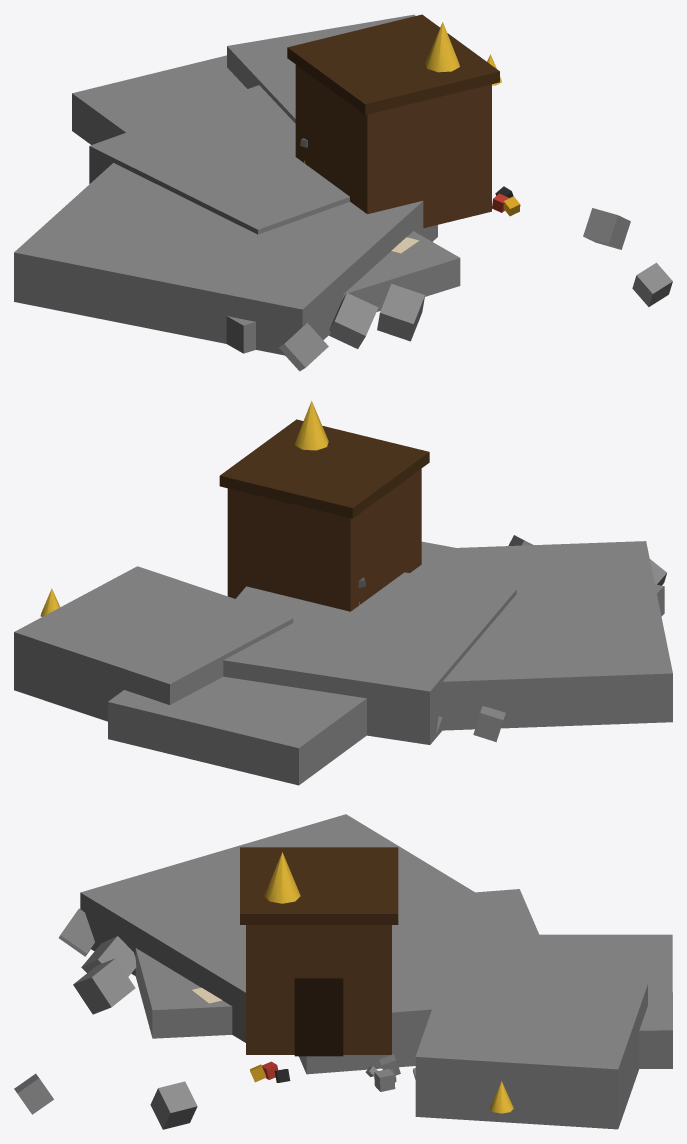
The model's file is geologist_hut.glb.
3 renders of one model, top to bottom at view 1: azimuth 30°, elevation 25°; view 2: azimuth 150°, elevation 25°; view 3: azimuth 270°, elevation 25°, orthographic. The views are drawn at different scales.
Parts seen in each view (by area): view 1: MountainRock (×5), GeologistHut, FlatRoof, SmallRock (×5), RoofMarker; view 2: MountainRock (×4), GeologistHut, FlatRoof, RoofMarker, SmallRock; view 3: MountainRock (×5), GeologistHut, FlatRoof, SmallRock (×5), HutDoor, RoofMarker.
Boxes of the visible parts, left/top/right/bottom form: MountainRock (×5): left=14, top=14, right=460, bottom=355; GeologistHut: left=295, top=64, right=491, bottom=228; FlatRoof: left=287, top=14, right=499, bottom=114; SmallRock (×5): left=278, top=208, right=672, bottom=371; RoofMarker: left=425, top=22, right=459, bottom=72; MountainRock (×4): left=14, top=541, right=672, bottom=785; GeologistHut: left=227, top=468, right=421, bottom=611; FlatRoof: left=219, top=419, right=429, bottom=518; RoofMarker: left=294, top=401, right=328, bottom=450; SmallRock: left=473, top=706, right=505, bottom=742; MountainRock (×5): left=80, top=814, right=672, bottom=1129; GeologistHut: left=246, top=925, right=391, bottom=1054; FlatRoof: left=240, top=847, right=398, bottom=924; SmallRock (×5): left=14, top=908, right=197, bottom=1129; HutDoor: left=294, top=977, right=343, bottom=1056; RoofMarker: left=264, top=852, right=300, bottom=903.
Size of the model in its own units: 5.43 by 2.05 by 5.41.
